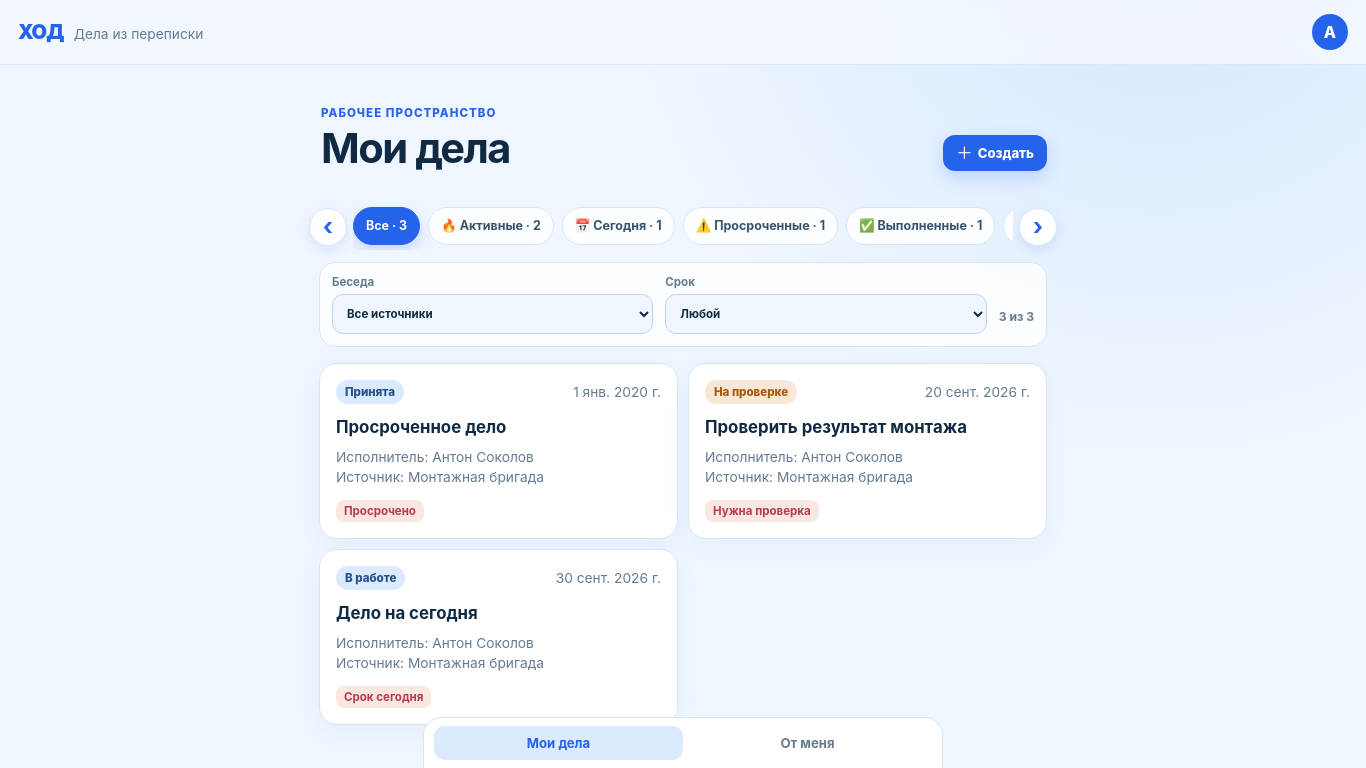
Test case: Mini App › filters actions by the same categories as the bot and by deadline
Step 1. Click the button "🔥 Активные · 2" → (491, 226), box [428,207,554,245]
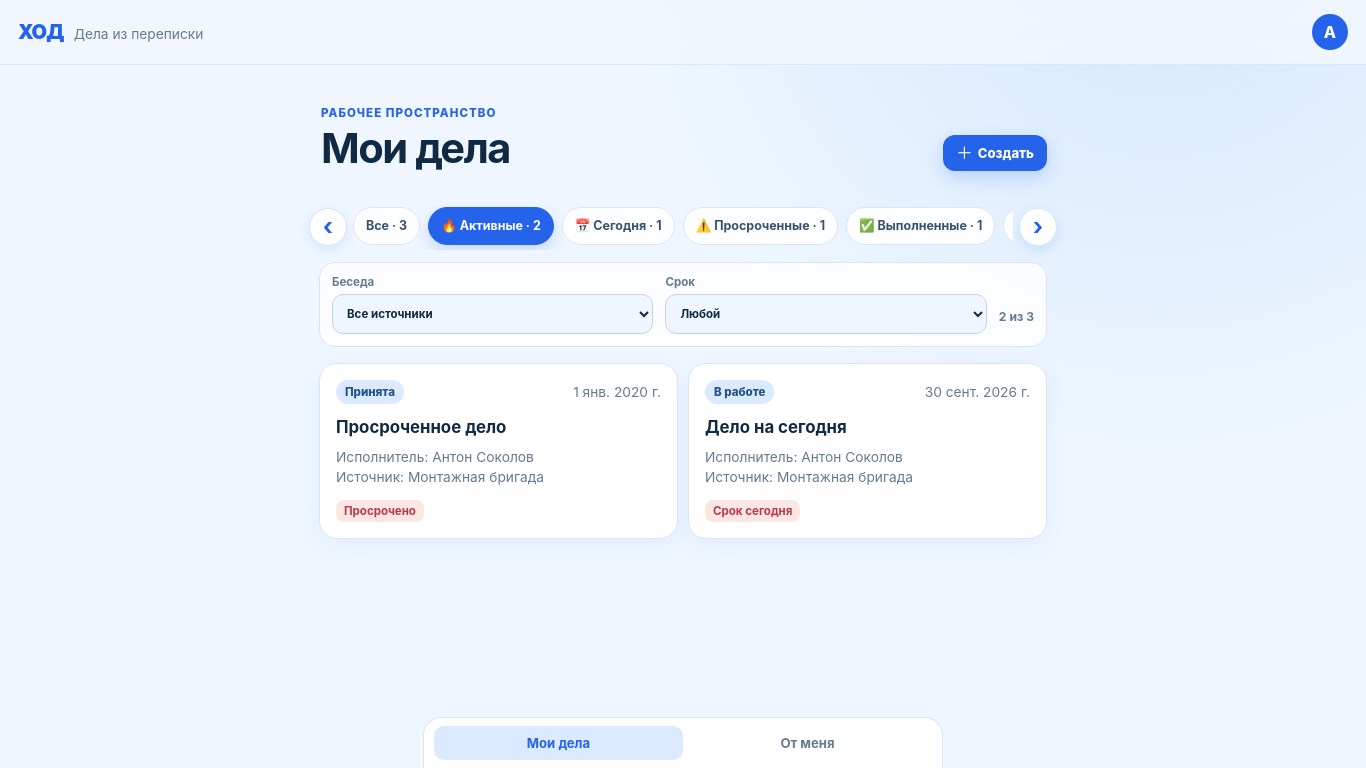
Expected: the heading "Дело на сегодня" is shown, [705,417,847,437]
Now the link "Проверить результат монтажа" is gone
Step 2. Select "Сегодня" in the dropdown named "Фильтр по сроку" → (826, 314), box [665,294,987,334]
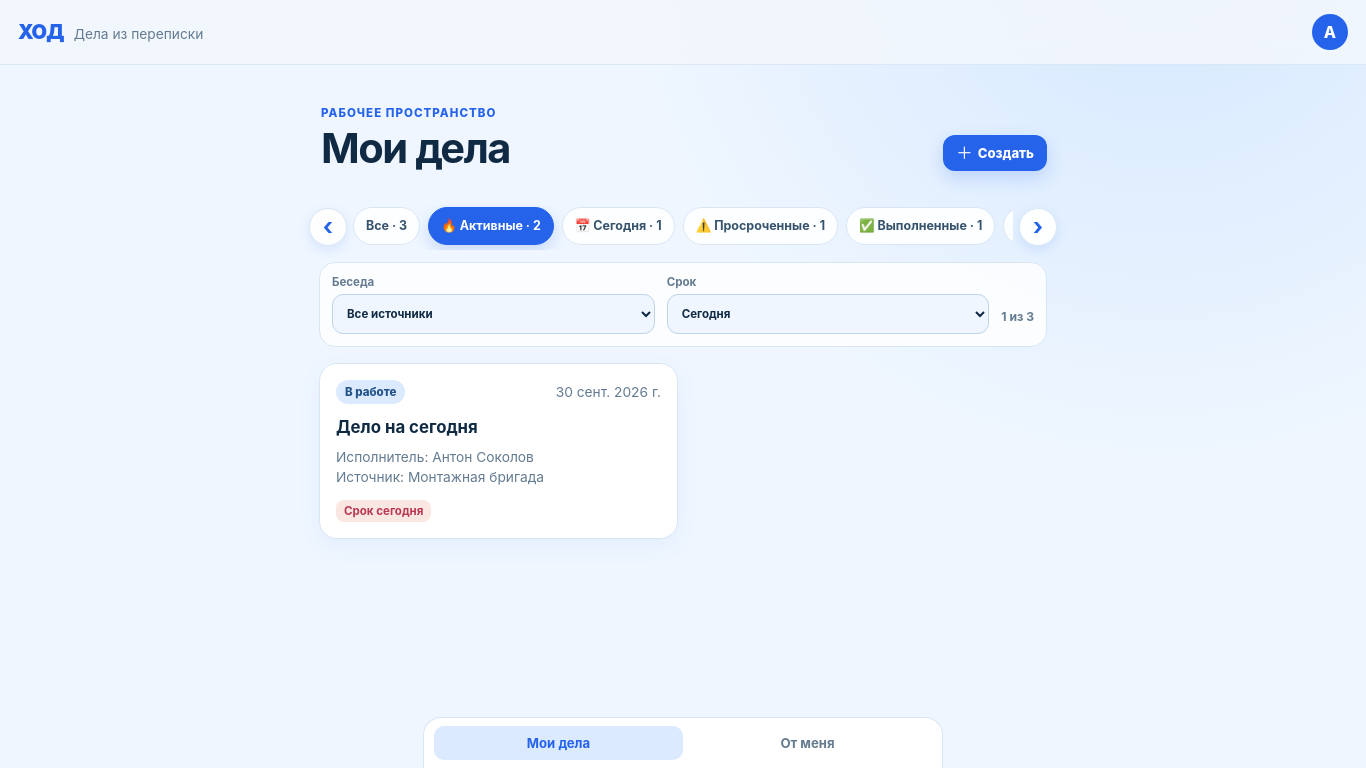
Expected: the heading "Дело на сегодня" is shown, [336,417,478,437]
Now the link "Просроченное дело" is gone
Now the text "1 из 3" is shown, box [1001,309,1034,334]
